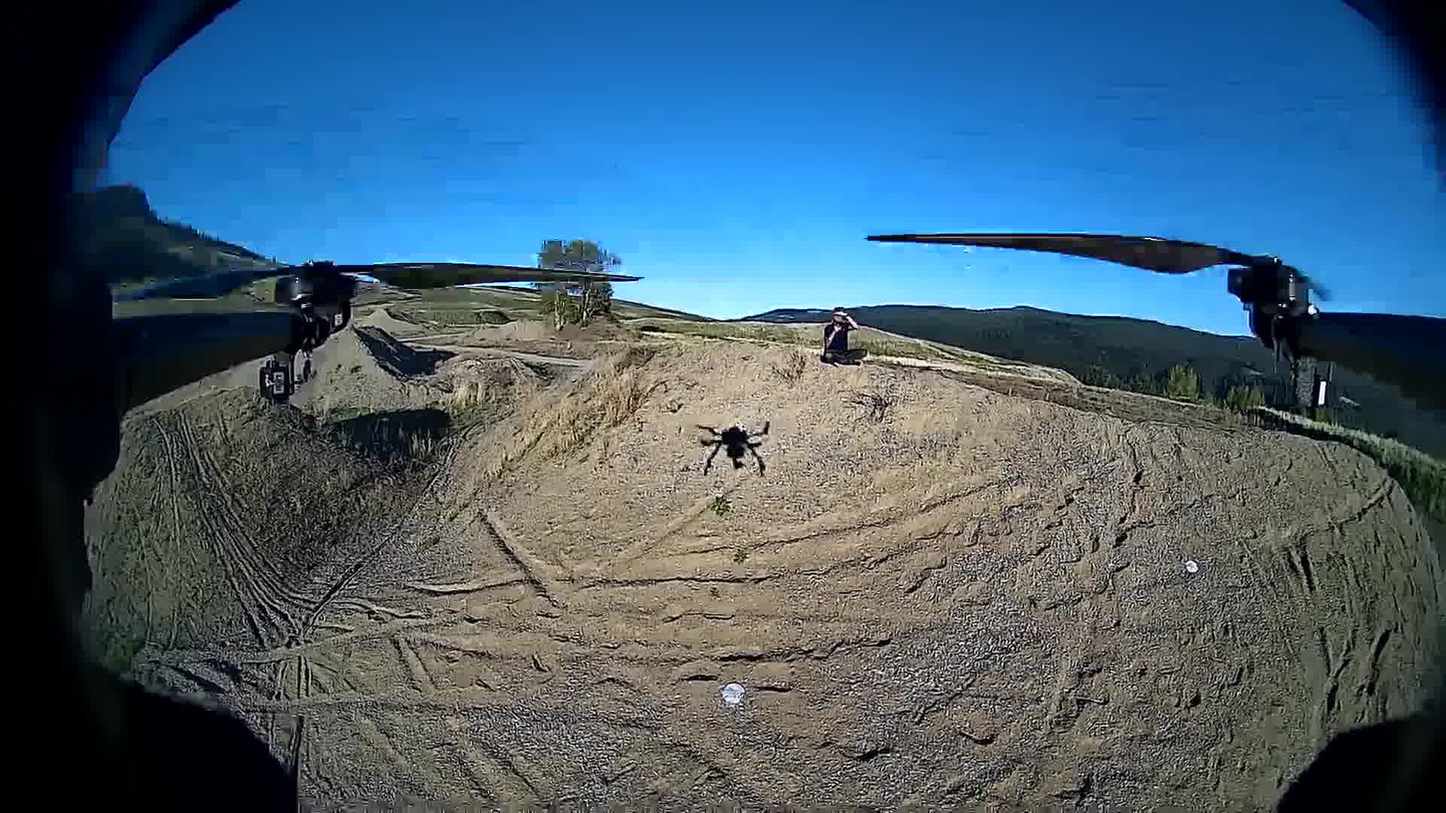Target: (722, 683, 743, 702), (1185, 561, 1199, 572)
